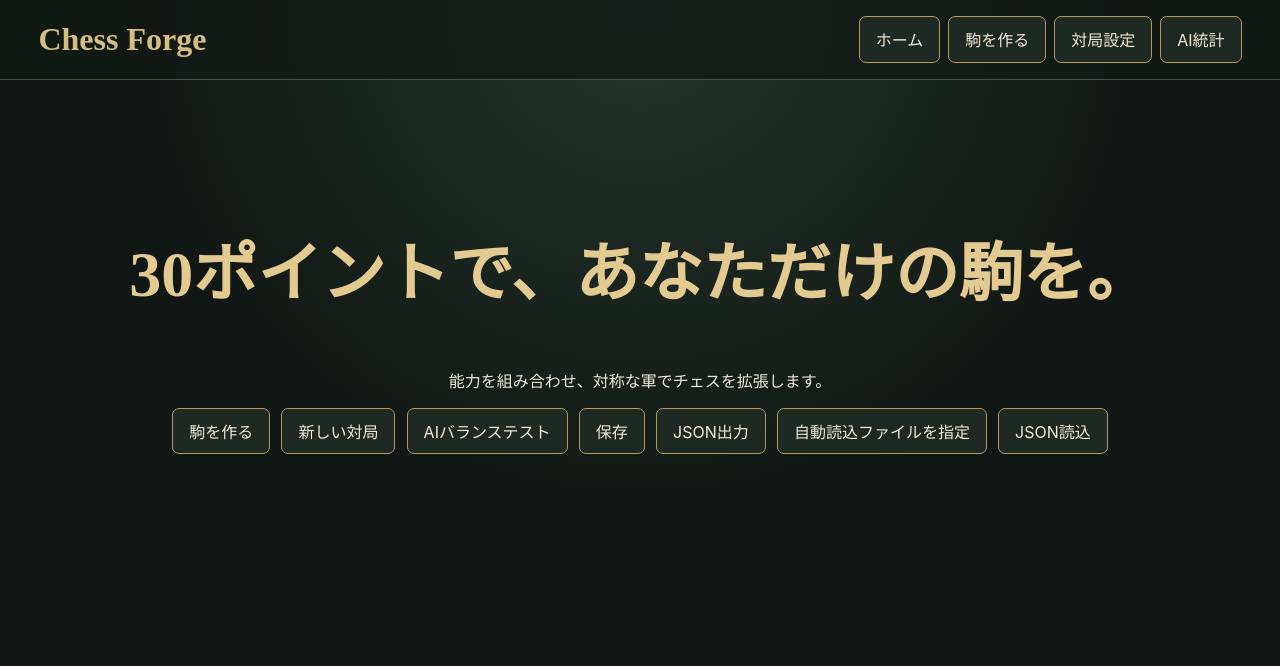
Test: App › configures chain movement with orthogonal directions and chain count
The width and height of the screenshot is (1280, 666).
Click the button "駒を作る" in the row of "Chess Forge" at (997, 39), box [948,16,1046,63]
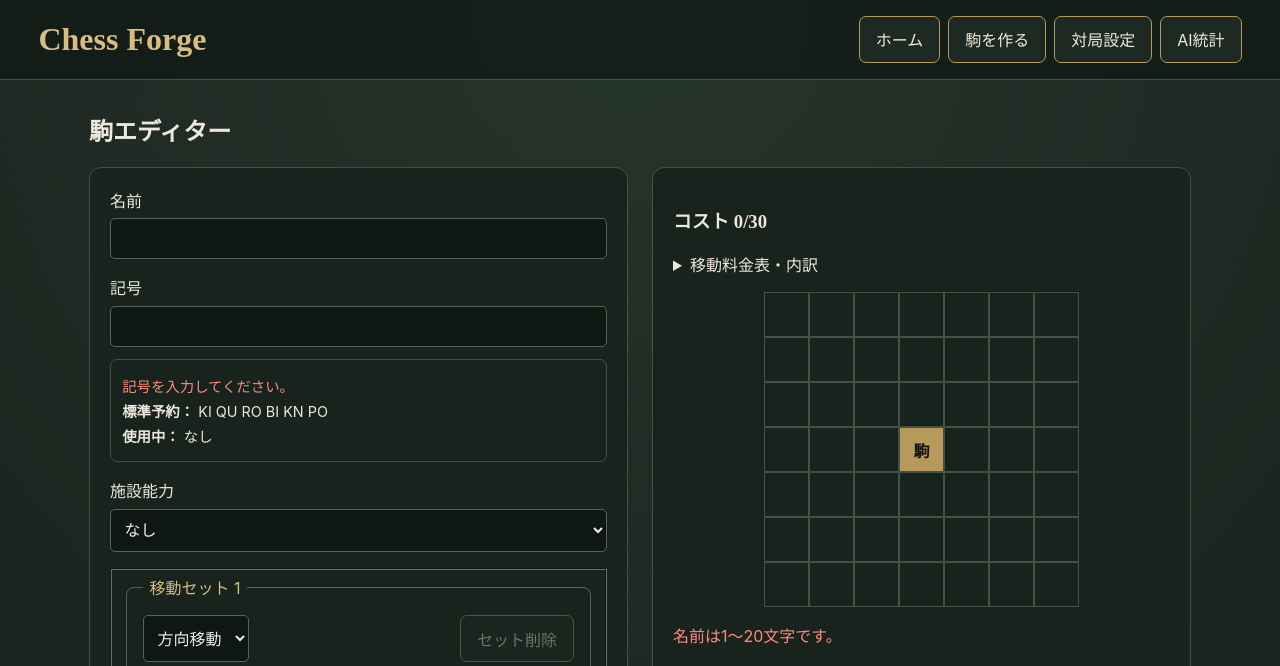
Select "連鎖移動" in the dropdown named "移動セット1の種類" at (196, 639), box [143,615,249,662]
(page scrolled)
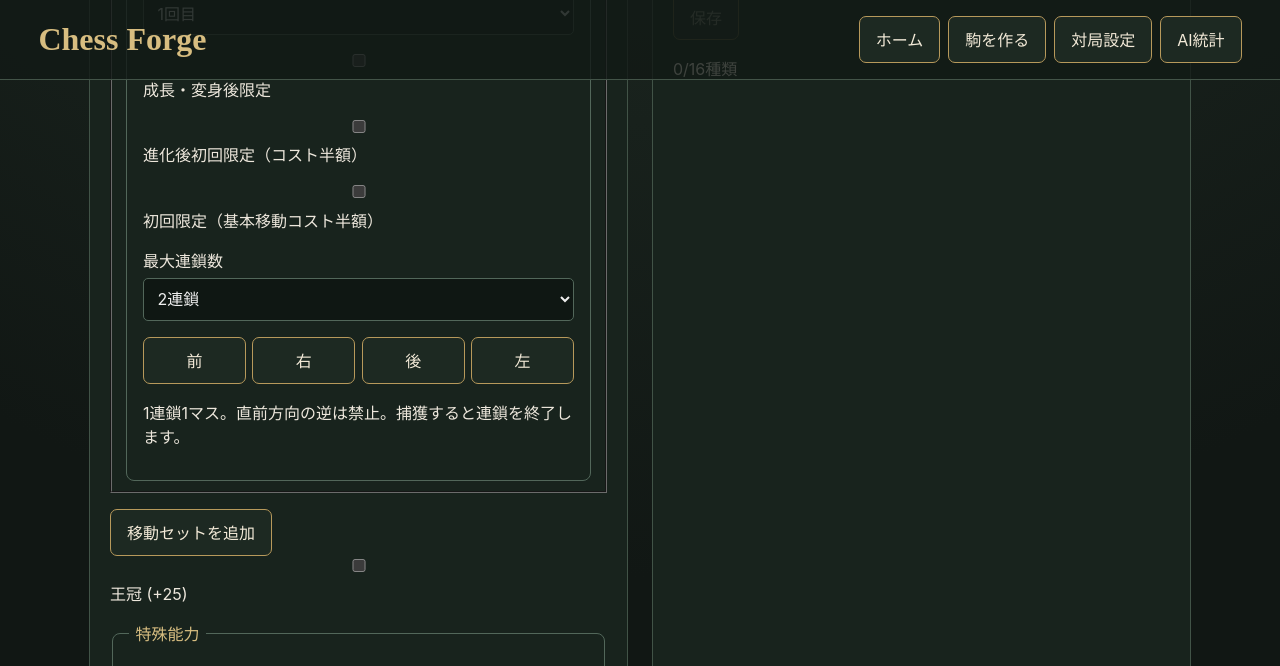
Click the button "前" at (194, 360), box [143,337,246,384]
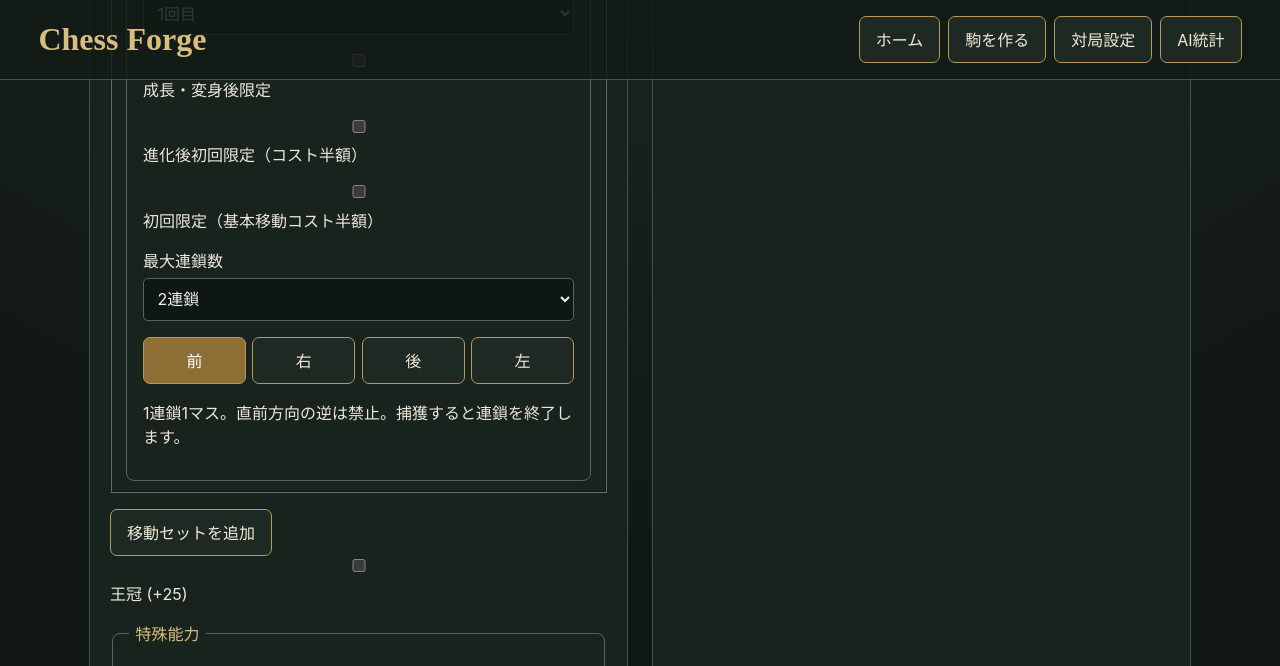
Click the button "右" at (304, 360), box [252,337,355,384]
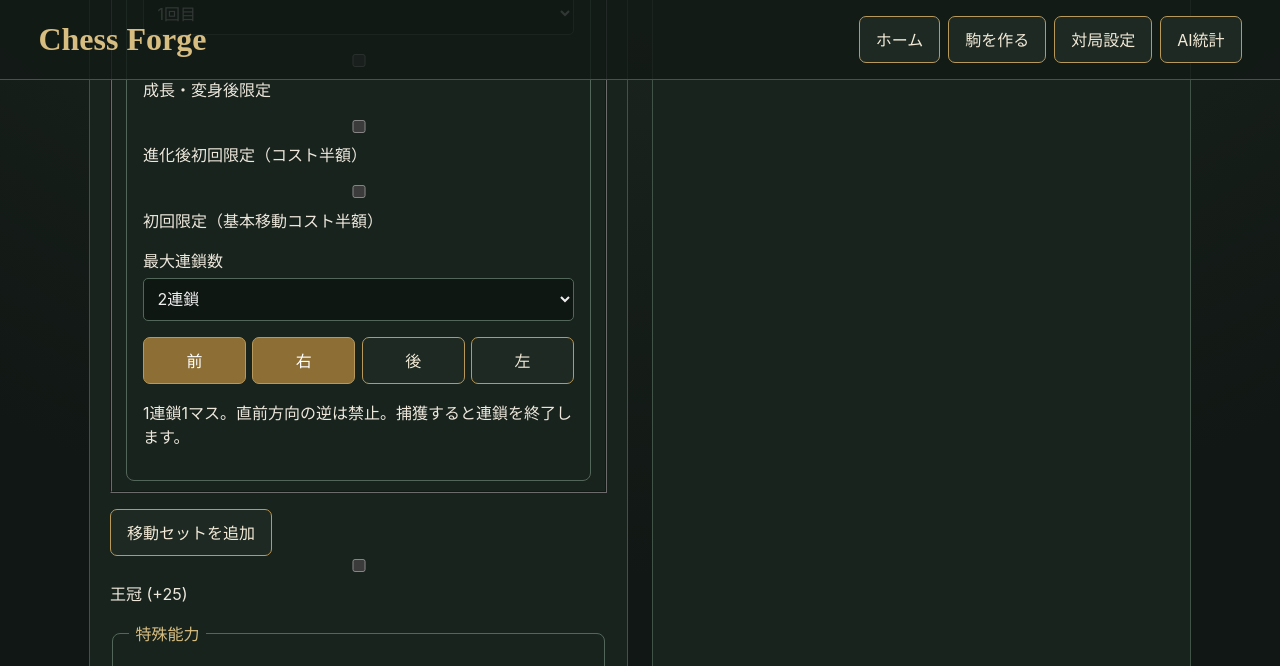
Select "3連鎖" in the dropdown labelled "最大連鎖数" at (358, 300), box [143,278,574,321]
(page scrolled)
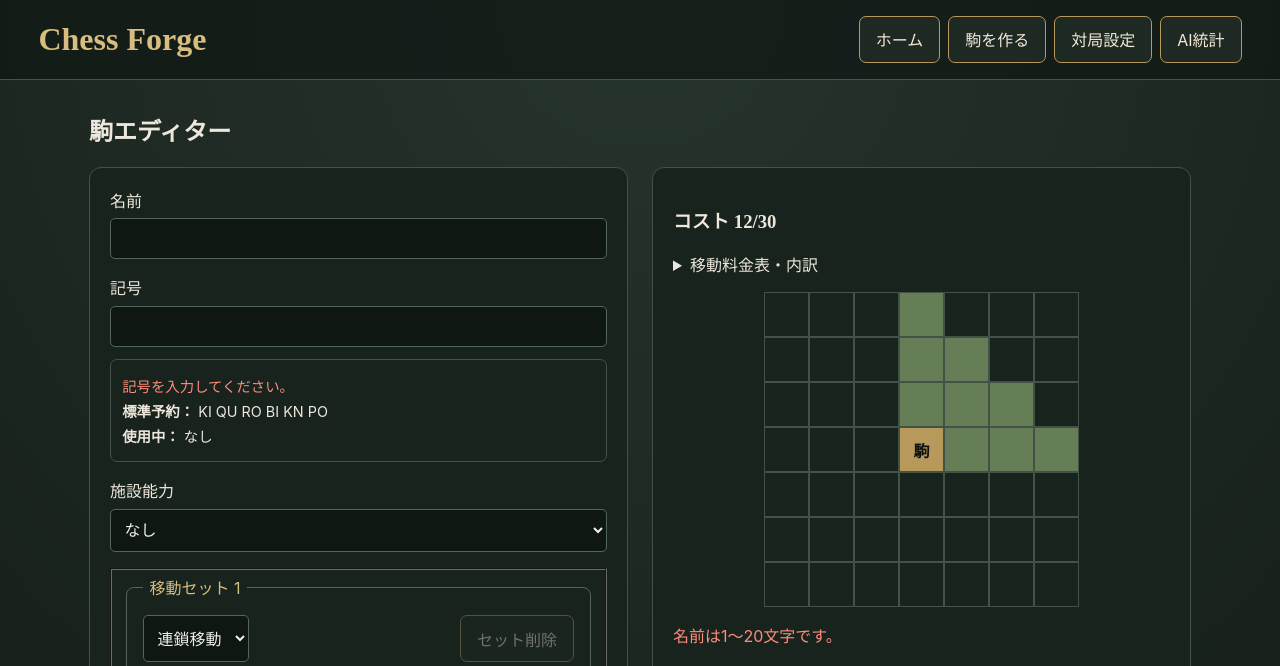
Result: the heading "コスト 12/30" is shown at [673,211,776,232]
